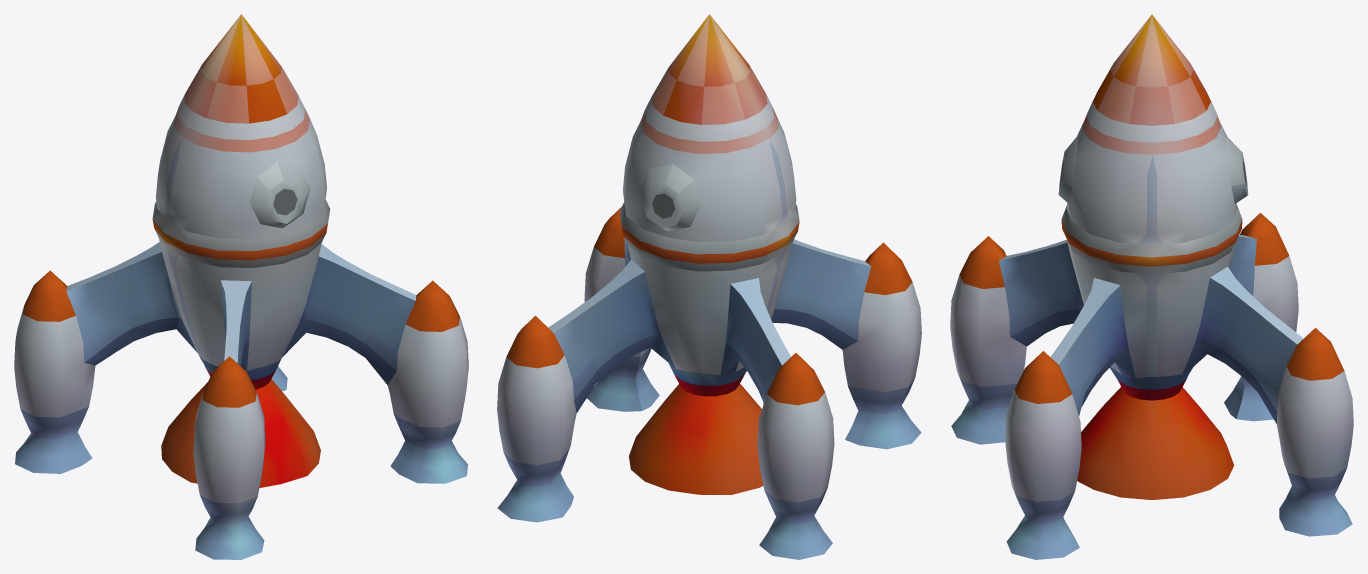
Rendered from rocket_body.glb.
3 renders of one model, left to right at view 1: azimuth 30°, elevation 25°; view 2: azimuth 150°, elevation 25°; view 3: azimuth 270°, elevation 25°, orthographic. The views are drawn at different scales.
Visible parts, largest first — view 1: rocket_body; view 2: rocket_body; view 3: rocket_body.
Part boxes in pixels (x1=…): rocket_body: x1=14, y1=14, x2=468, y2=559; rocket_body: x1=497, y1=14, x2=921, y2=559; rocket_body: x1=950, y1=14, x2=1353, y2=559.
Size of the model in its own units: 2.87 by 3.61 by 2.87.
